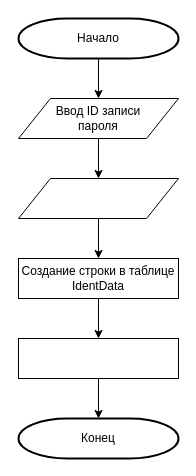
Some shapes in this 196 by 476 pixel diagram are drawn without their labels. The shapes that lost their labels are listed below. From the top down, each one's centre as x and y in pixels, then its label:
At [98,198]: "Ввод ID записи VoiceSample".
At [98,358]: "Возврат поля ID созданной строки".
